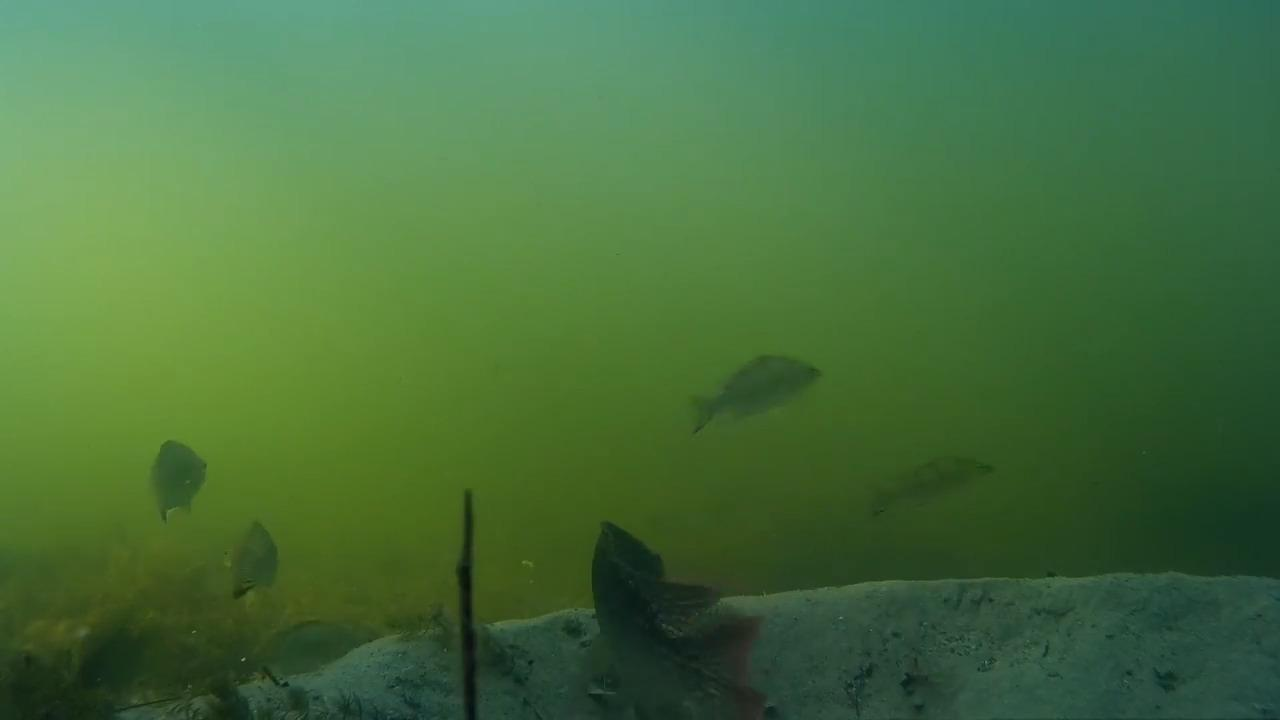Tilapia: (560, 512, 759, 720), (676, 353, 823, 439), (868, 446, 1005, 518), (232, 618, 369, 680), (141, 430, 215, 522), (218, 512, 283, 610)
